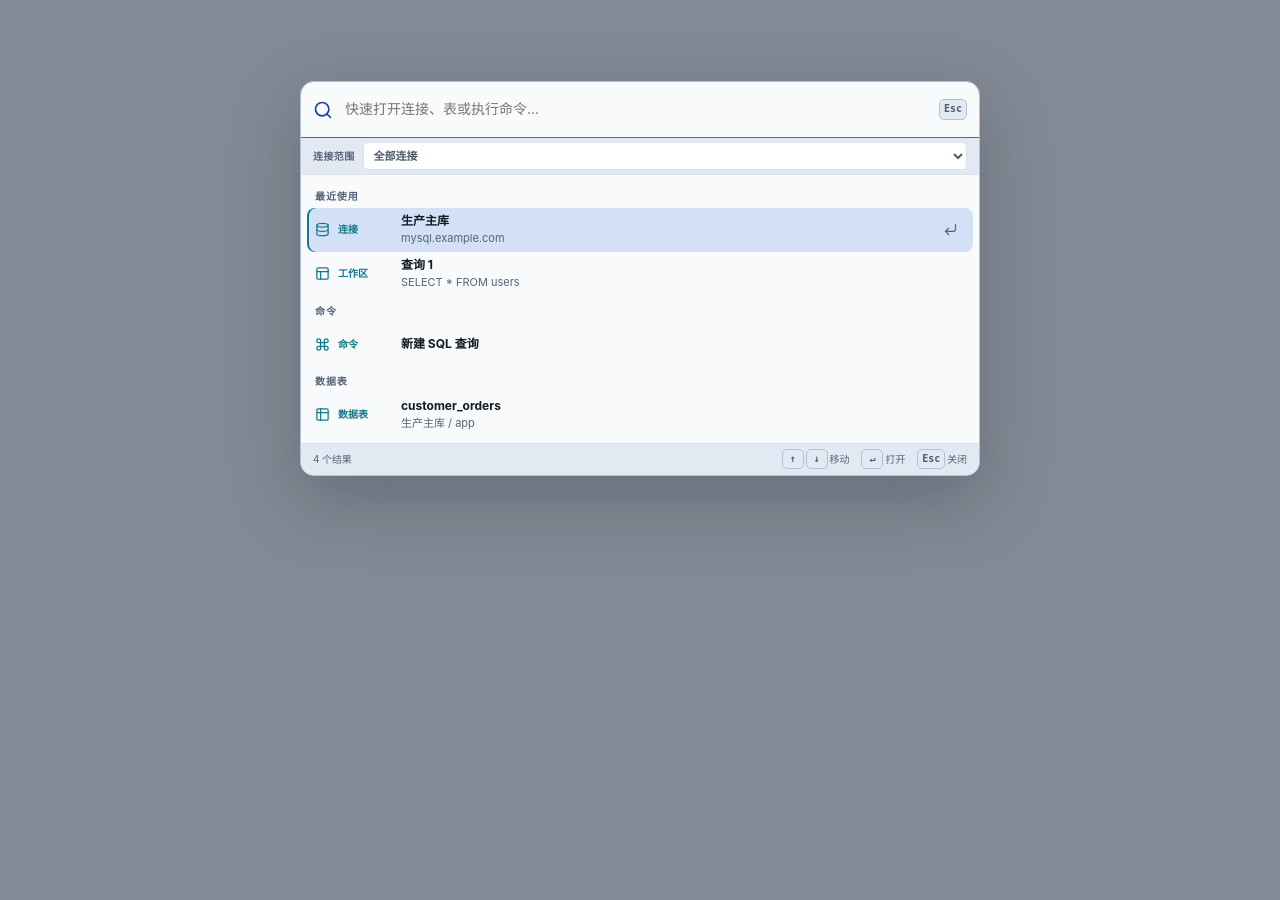
it: CommandPalette › scrolls keyboard selections without moving results under the pointer and can clear search
Hover over the option "数据表 customer_orders 生产主库 / app": (451, 406) [307,392,973,436]
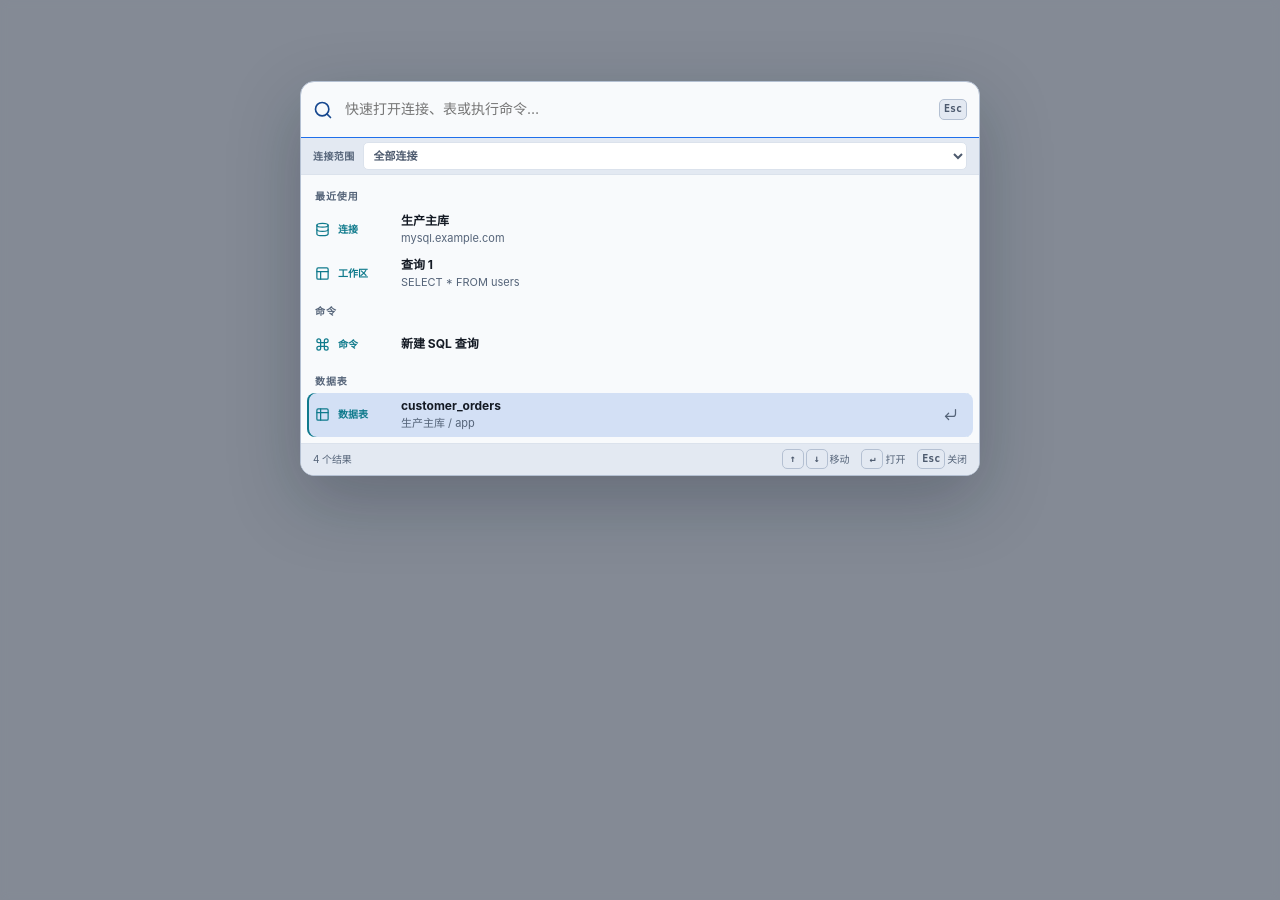
Press ArrowDown in the dropdown named "搜索连接", box [343,98,933,121]
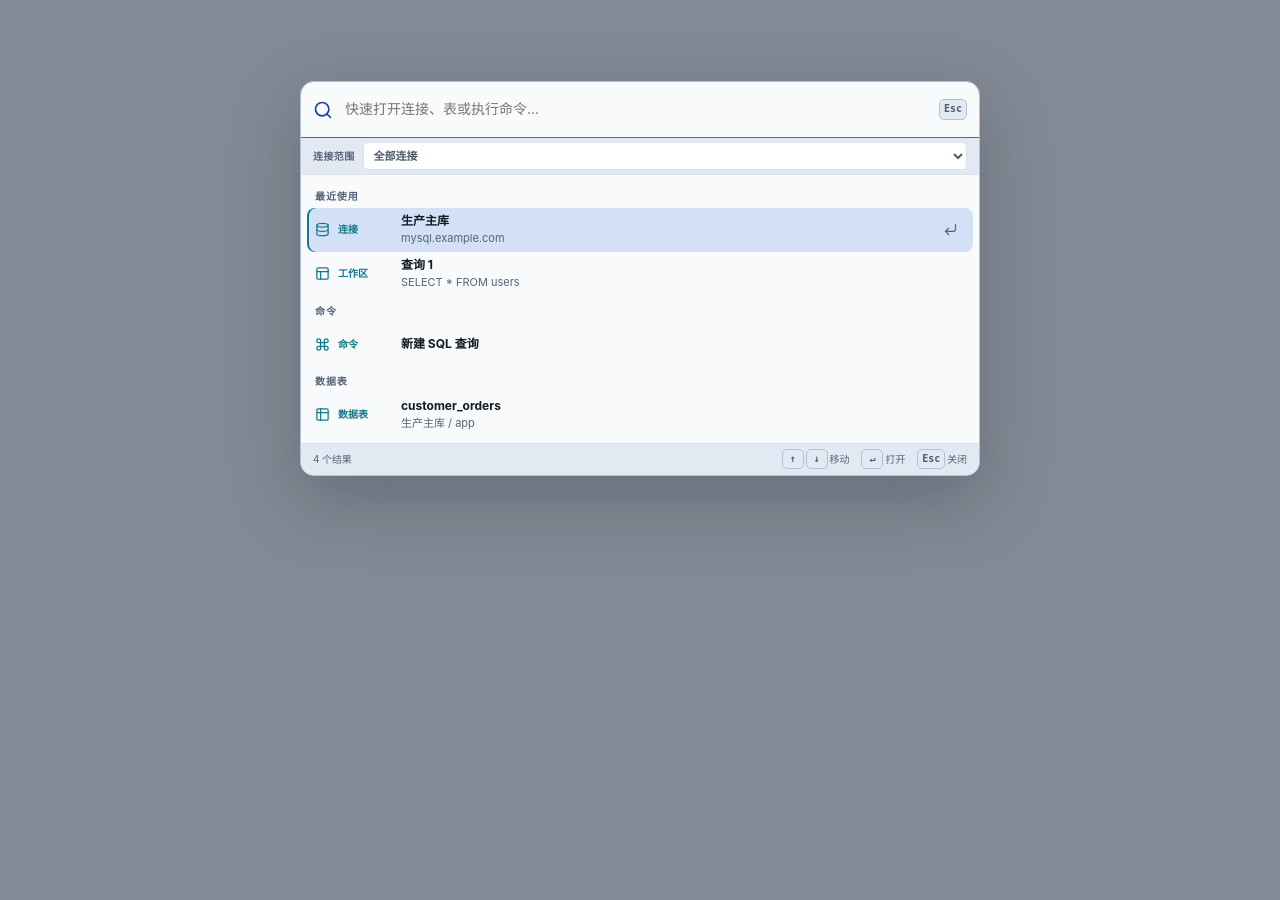
In the dropdown named "搜索连接": (638, 109) [343,98,933,121], type "不存在"
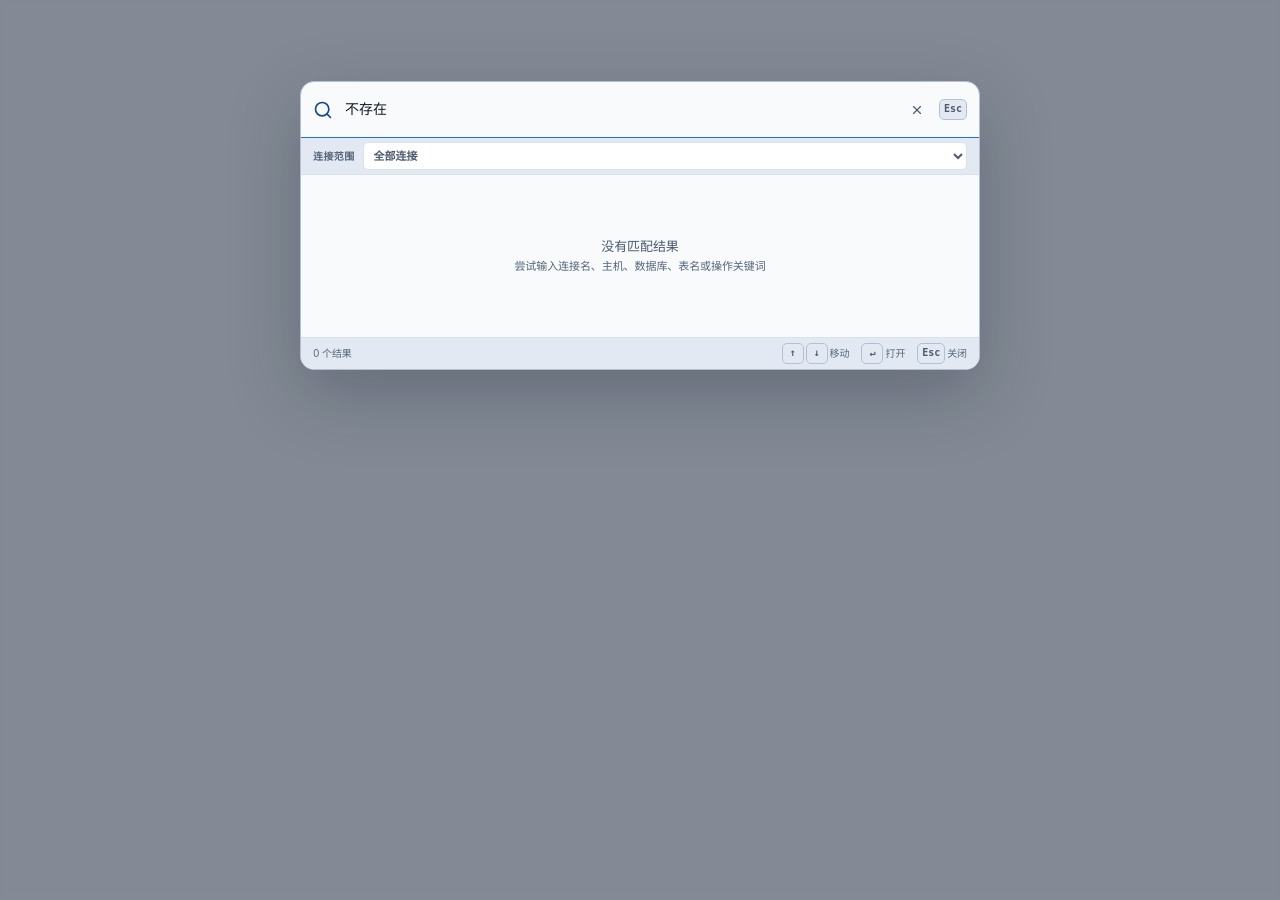
Result: the text "0 个结果" is shown at [313,346,352,361]
Click the button named "清空搜索": (917, 110) [903,96,931,124]
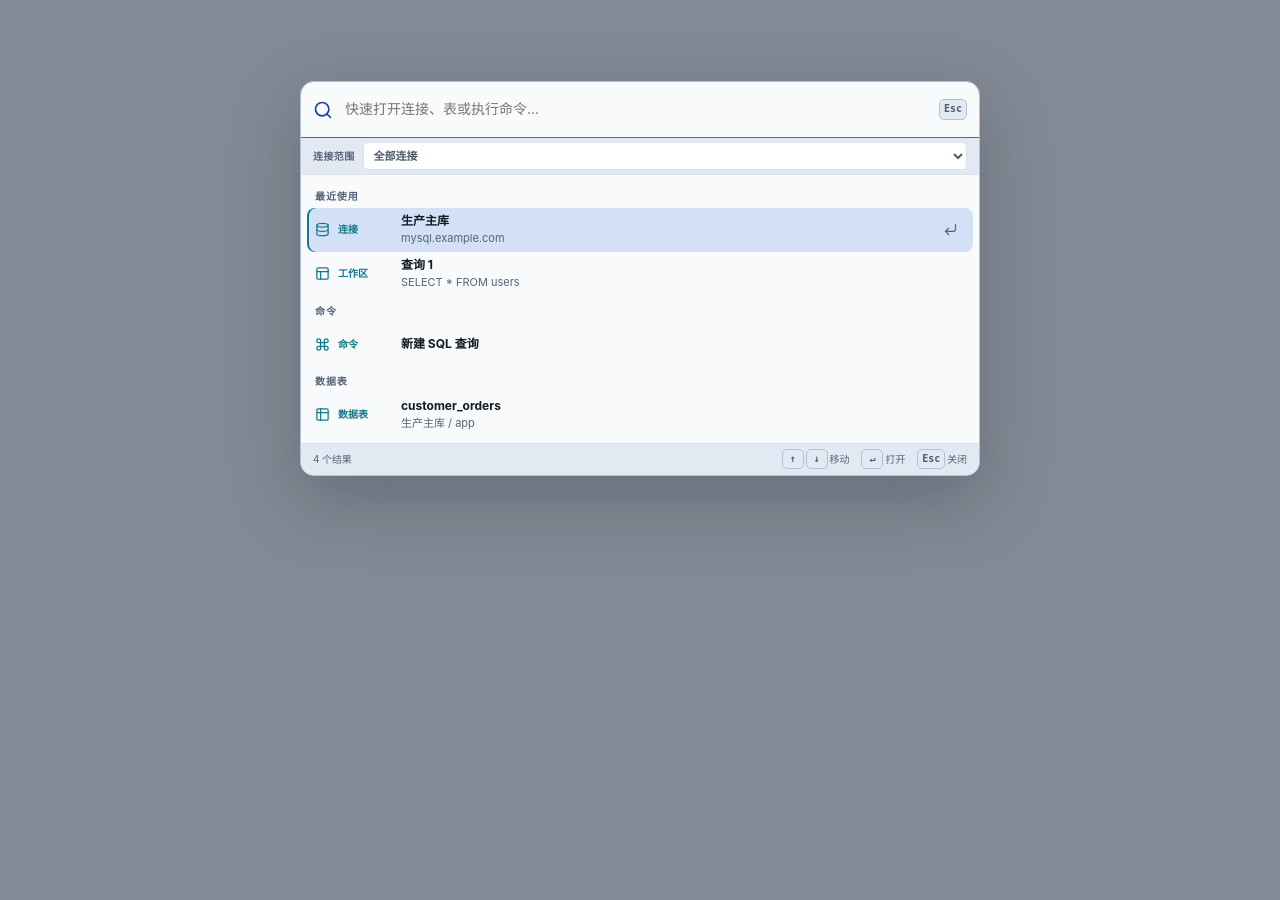
Result: the dropdown named "搜索连接" is empty at [343,98,933,121]
Result: the number of options is 4 at [307,208,973,252]; [307,252,973,296]; [307,322,973,366]; [307,392,973,436]
